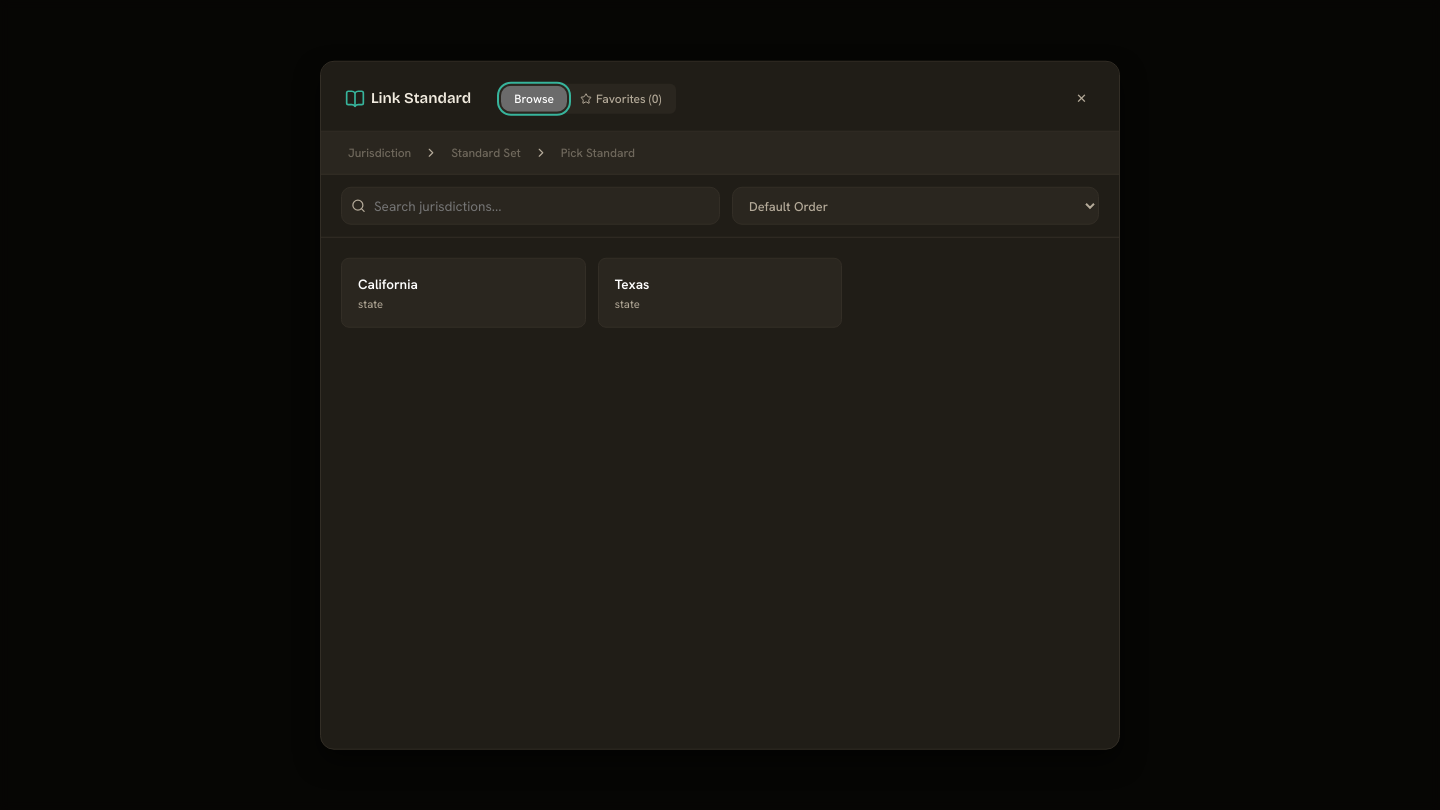
Test case: StandardsPickerModal › navigates from jurisdiction to standard set to standards
This screenshot has width=1440, height=810.
Click the text "California": (388, 284) left=358, top=275, right=418, bottom=293
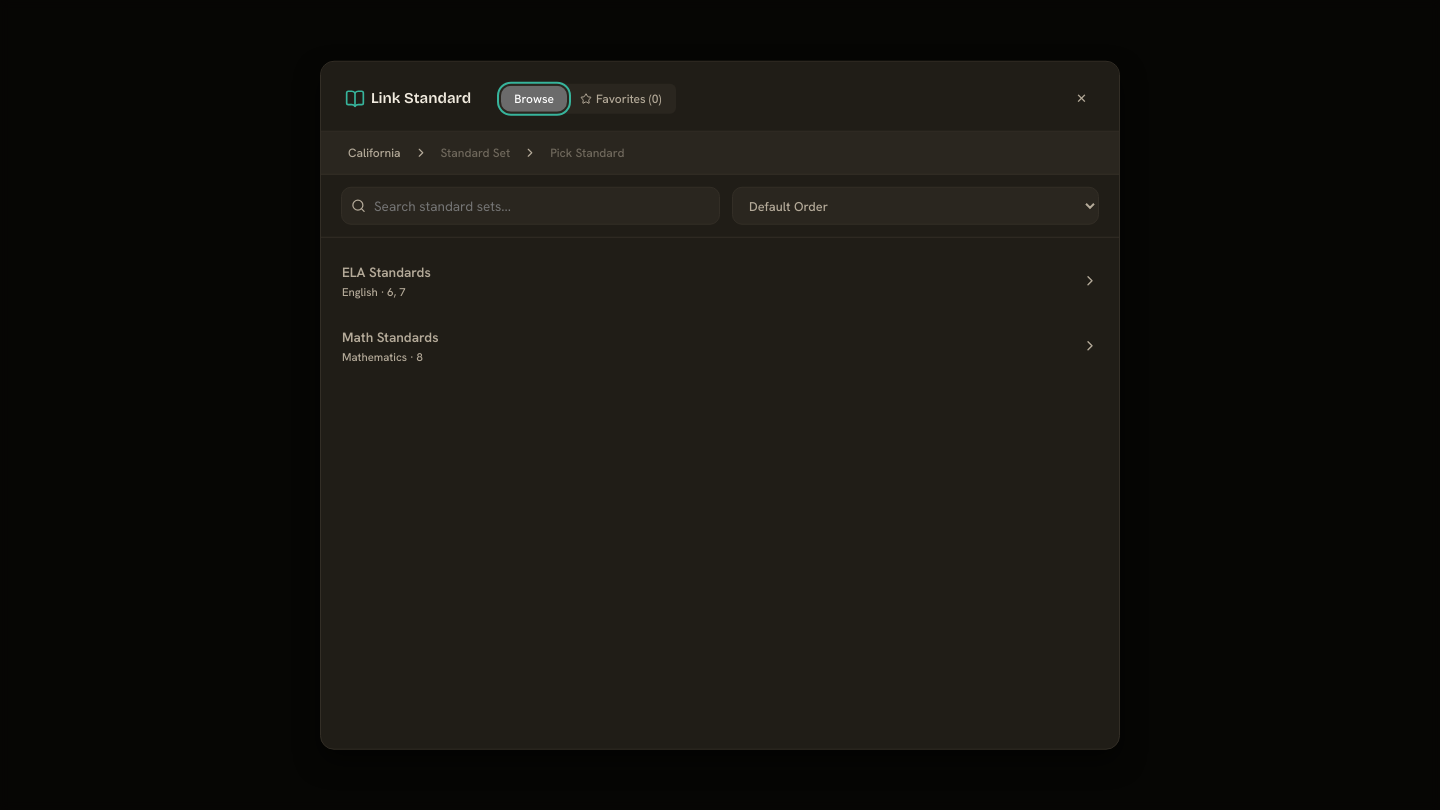
Expected: the text "ELA Standards" is shown
Click the text "ELA Standards": (386, 272) left=342, top=263, right=431, bottom=281
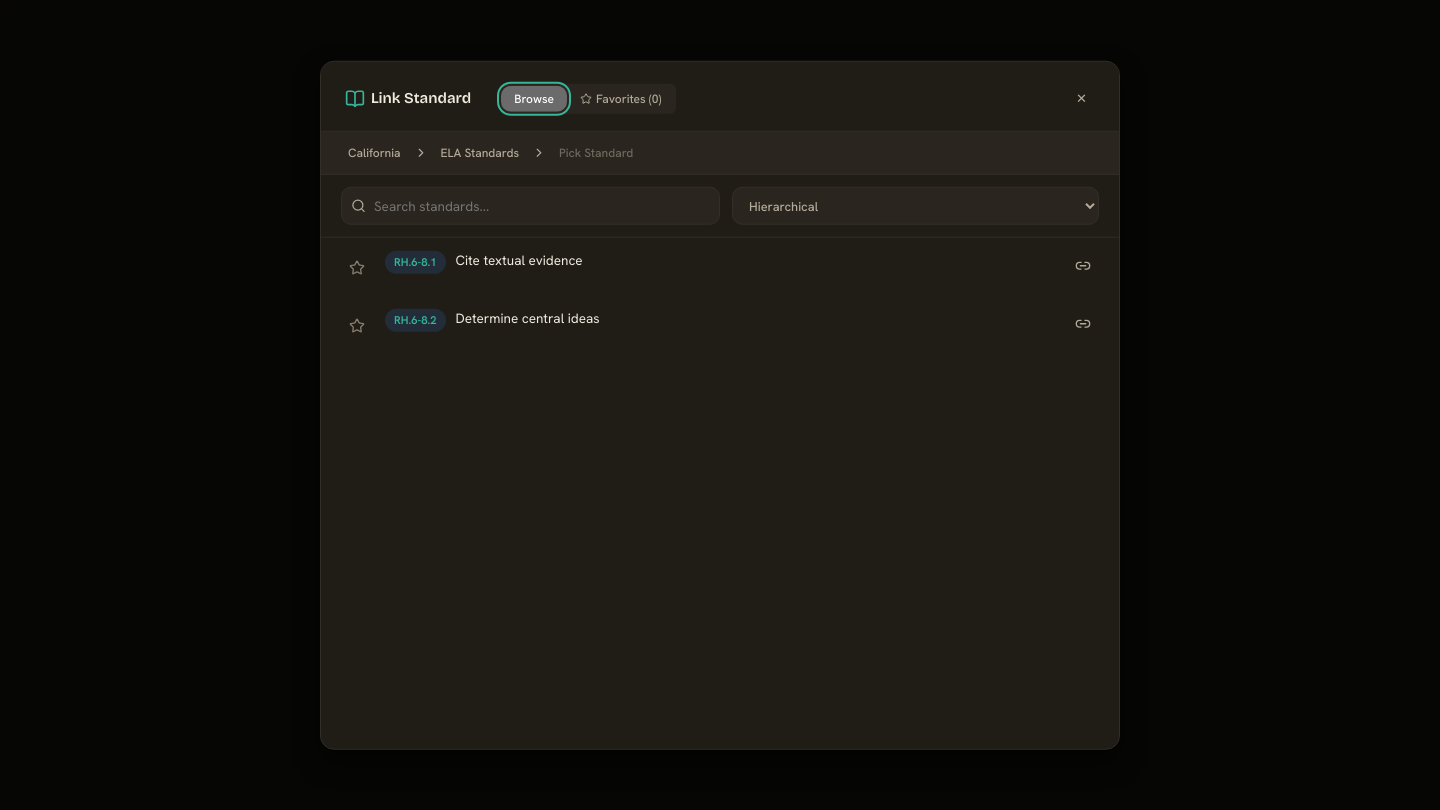
Expected: the text "Cite textual evidence" is shown, left=456, top=250, right=583, bottom=270
Expected: the text "Determine central ideas" is shown, left=456, top=308, right=600, bottom=328
